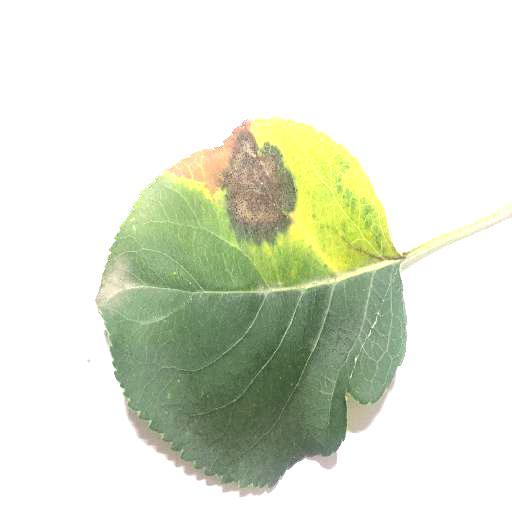Brown_Spot: (152, 119, 335, 258)
